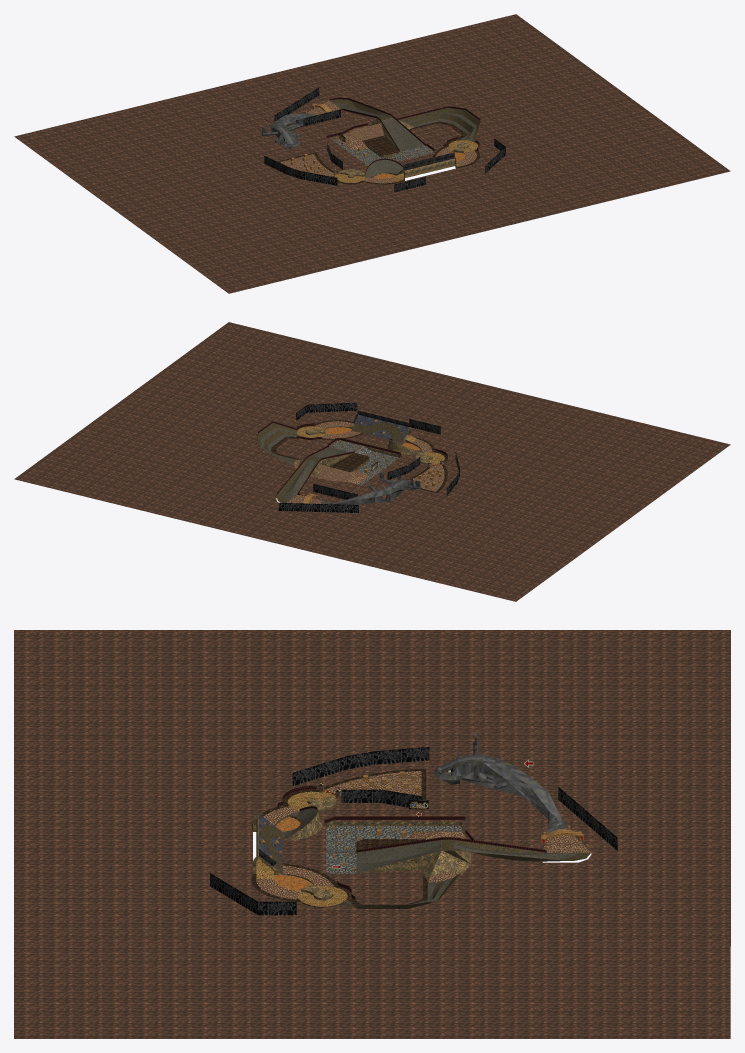
The picture shows the model from 3 angles, top to bottom: view 1: azimuth 30°, elevation 25°; view 2: azimuth 150°, elevation 25°; view 3: azimuth 270°, elevation 25°; orthographic projection. The views are drawn at different scales.
Visible parts, largest first — view 1: course-SKP--LODO1, course-SKP--Material.015, course-SKP--PISTAGRAVA, course-SKP--PISOTIERRA, course-SKP--muro.001, course-SKP--LODO, course-SKP--pista_grava2, course-SKP--pistasteel, course-SKP--MURO2, course-SKP--PISOGRAVA, course-SKP--PISOARENA; view 2: course-SKP--LODO1, course-SKP--Material.015, course-SKP--PISOTIERRA, course-SKP--PISTAGRAVA, course-SKP--pista_grava2, course-SKP--pistasteel, course-SKP--muro.001, course-SKP--LODO, course-SKP--PISOGRAVA, course-SKP--MURO2, course-SKP--FALLsOLID; view 3: course-SKP--LODO1, course-SKP--Material.015, course-SKP--muro.001, course-SKP--PISOTIERRA, course-SKP--pistasteel, course-SKP--PISTAGRAVA, course-SKP--PISOGRAVA, course-SKP--LODO, course-SKP--pista_grava2, course-SKP--MURO2, course-SKP--PISOARENA, course-SKP--ww1 (+1 smaller).
Boxes of the visible parts, box(x1,y1,x2,y2) form: course-SKP--LODO1: box(14, 14, 730, 293); course-SKP--Material.015: box(264, 87, 505, 192); course-SKP--PISTAGRAVA: box(333, 103, 476, 177); course-SKP--PISOTIERRA: box(280, 100, 476, 183); course-SKP--muro.001: box(330, 118, 468, 181); course-SKP--LODO: box(277, 121, 479, 184); course-SKP--pista_grava2: box(329, 99, 480, 170); course-SKP--pistasteel: box(261, 113, 316, 148); course-SKP--MURO2: box(326, 97, 480, 174); course-SKP--PISOGRAVA: box(333, 139, 432, 165); course-SKP--PISOARENA: box(335, 140, 477, 182); course-SKP--LODO1: box(14, 322, 730, 601); course-SKP--Material.015: box(278, 402, 459, 512); course-SKP--PISOTIERRA: box(287, 421, 444, 503); course-SKP--PISTAGRAVA: box(260, 427, 422, 501); course-SKP--pista_grava2: box(256, 422, 402, 502); course-SKP--pistasteel: box(320, 448, 421, 504); course-SKP--muro.001: box(296, 426, 432, 477); course-SKP--LODO: box(271, 420, 447, 492); course-SKP--PISOGRAVA: box(329, 440, 398, 485); course-SKP--MURO2: box(256, 421, 447, 495); course-SKP--FALLsOLID: box(352, 414, 409, 442); course-SKP--LODO1: box(14, 630, 730, 1038); course-SKP--Material.015: box(210, 747, 617, 915); course-SKP--muro.001: box(253, 795, 470, 900); course-SKP--PISOTIERRA: box(256, 771, 590, 899); course-SKP--pistasteel: box(434, 732, 566, 833); course-SKP--PISTAGRAVA: box(282, 808, 579, 905); course-SKP--PISOGRAVA: box(326, 826, 461, 873); course-SKP--LODO: box(251, 769, 427, 907); course-SKP--pista_grava2: box(260, 826, 590, 900); course-SKP--MURO2: box(277, 786, 546, 899); course-SKP--PISOARENA: box(256, 791, 347, 906); course-SKP--ww1: box(260, 771, 589, 871).
Size of the model in its own units: 195569 by 9470 by 144998.
23 materials, 22 textured.
